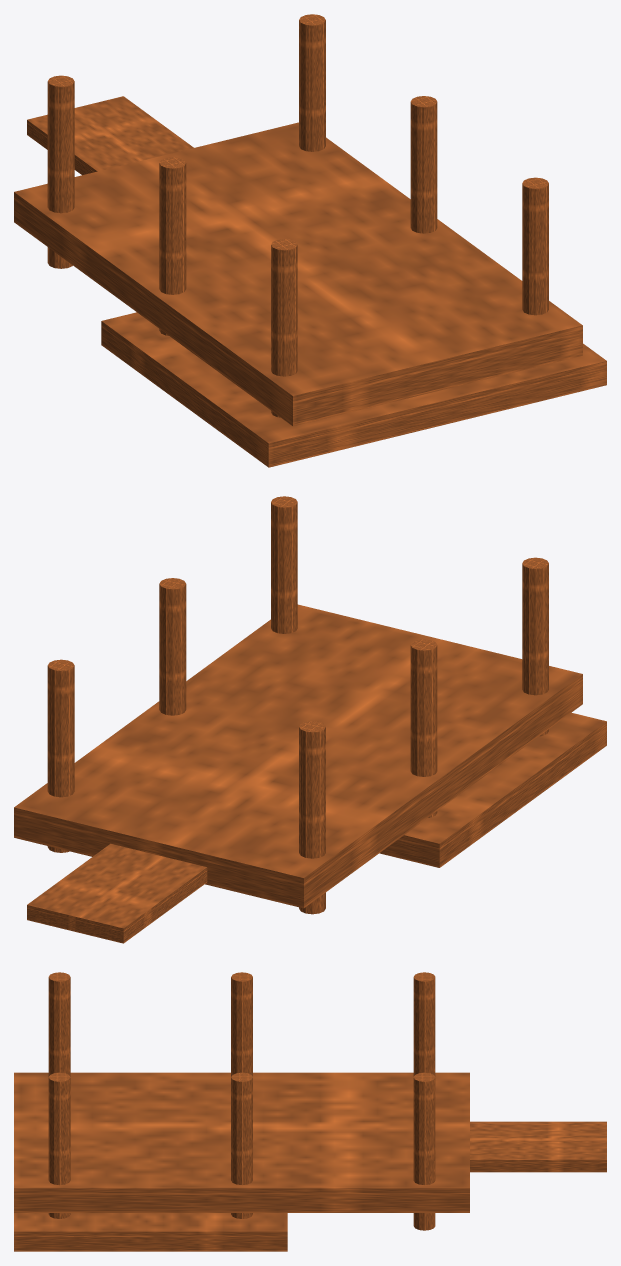
File: ferry_dock_00.glb
3 views of the same model, one above another, from view 1: azimuth 30°, elevation 25°; view 2: azimuth 150°, elevation 25°; view 3: azimuth 270°, elevation 25° (orthographic). The views are drawn at different scales.
Visible parts, largest first — view 1: Dock, Foundation, Gangway, Mooring.002, Mooring.001, Mooring.004, Mooring, Mooring.005, Mooring.003; view 2: Dock, Foundation, Gangway, Mooring.002, Mooring.005, Mooring.001, Mooring.004, Mooring, Mooring.003; view 3: Dock, Foundation, Gangway, Mooring.005, Mooring.003, Mooring.004, Mooring, Mooring.002, Mooring.001.
Boxes of the visible parts, left/top/right/bottom form: Dock: left=14, top=122, right=582, bottom=426; Foundation: left=101, top=312, right=606, bottom=467; Gangway: left=27, top=96, right=193, bottom=175; Mooring.002: left=47, top=75, right=74, bottom=268; Mooring.001: left=159, top=157, right=186, bottom=335; Mooring.004: left=410, top=96, right=437, bottom=233; Mooring: left=271, top=239, right=297, bottom=417; Mooring.005: left=299, top=14, right=325, bottom=151; Mooring.003: left=522, top=177, right=548, bottom=315; Dock: left=14, top=604, right=582, bottom=908; Foundation: left=379, top=712, right=606, bottom=867; Gangway: left=27, top=843, right=207, bottom=943; Mooring.002: left=299, top=721, right=325, bottom=914; Mooring.005: left=47, top=659, right=74, bottom=852; Mooring.001: left=410, top=639, right=437, bottom=817; Mooring.004: left=159, top=578, right=186, bottom=715; Mooring: left=522, top=557, right=548, bottom=736; Mooring.003: left=271, top=496, right=297, bottom=633; Dock: left=14, top=1072, right=469, bottom=1212; Foundation: left=14, top=1213, right=287, bottom=1251; Gangway: left=470, top=1121, right=606, bottom=1172; Mooring.005: left=413, top=1072, right=435, bottom=1230; Mooring.003: left=48, top=1072, right=70, bottom=1218; Mooring.004: left=231, top=1072, right=252, bottom=1218; Mooring: left=48, top=972, right=70, bottom=1076; Mooring.002: left=413, top=972, right=435, bottom=1076; Mooring.001: left=231, top=972, right=252, bottom=1076.
Size of the model in its own units: 3.5 by 1.9 by 6.5.
1 material, 1 textured.
